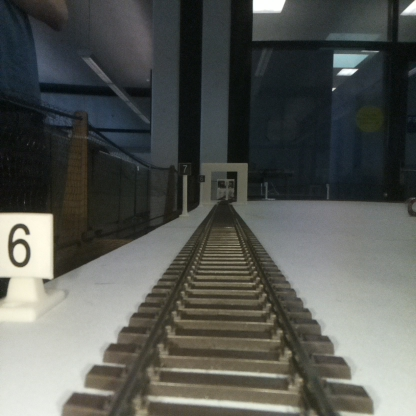black-info-7: (179, 162, 190, 216)
white-stop-6: (0, 214, 52, 318)
